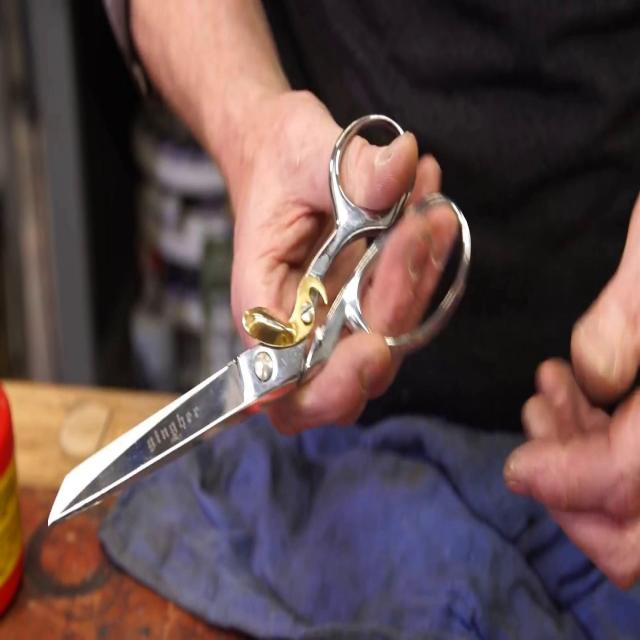scissor: (48, 112, 469, 529)
